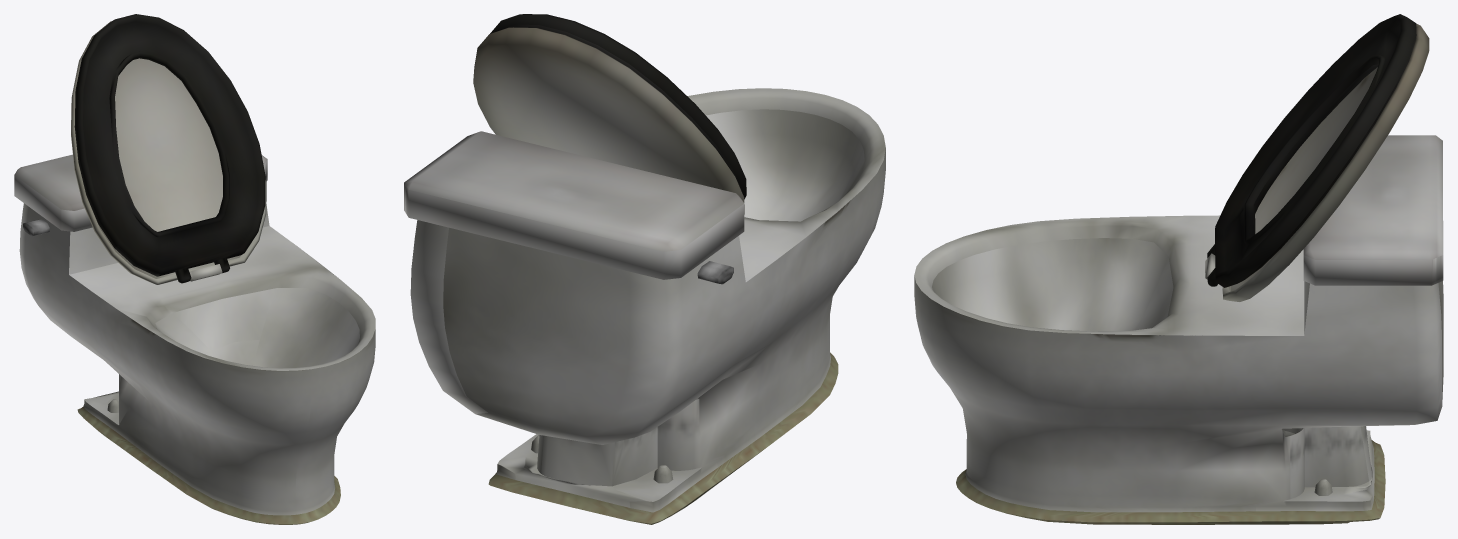
Rendered from Toilet.fbx.
3 renders of one model, left to right at view 1: azimuth 30°, elevation 25°; view 2: azimuth 150°, elevation 25°; view 3: azimuth 270°, elevation 25°, orthographic. The views are drawn at different scales.
Visible parts, largest first — view 1: Toilet; view 2: Toilet; view 3: Toilet.
Part boxes in pixels (<box>): Toilet: <box>14,14,375,524</box>; Toilet: <box>404,14,885,524</box>; Toilet: <box>914,14,1443,524</box>.
Bounding box in the file's own units: 0.6238 × 1.02 × 1.06.
